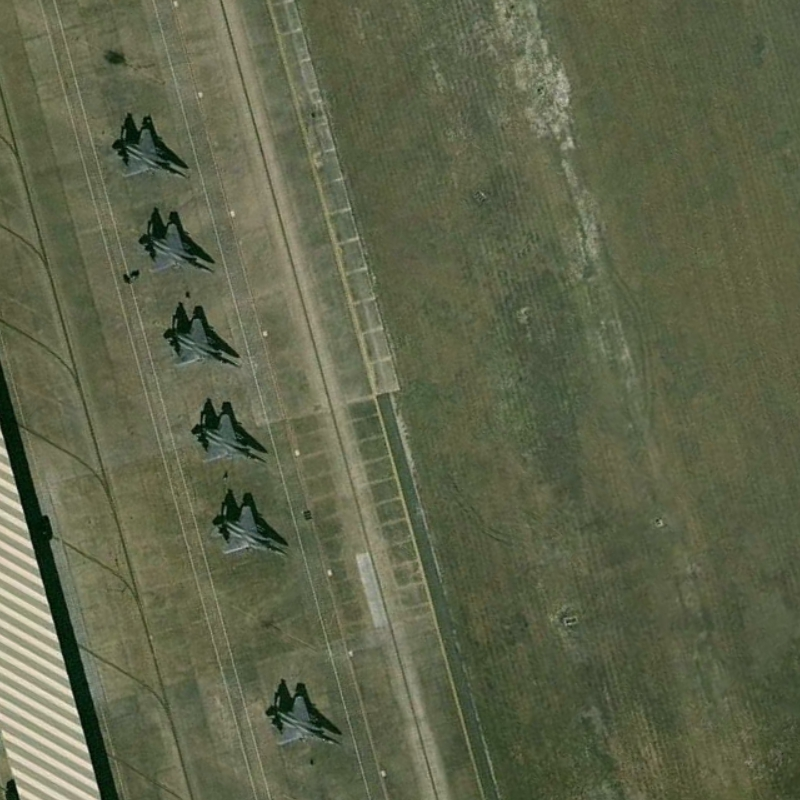A13: (109, 122, 194, 186), (136, 217, 219, 279), (192, 406, 271, 470), (161, 314, 244, 374), (205, 503, 289, 562), (265, 690, 344, 750)
